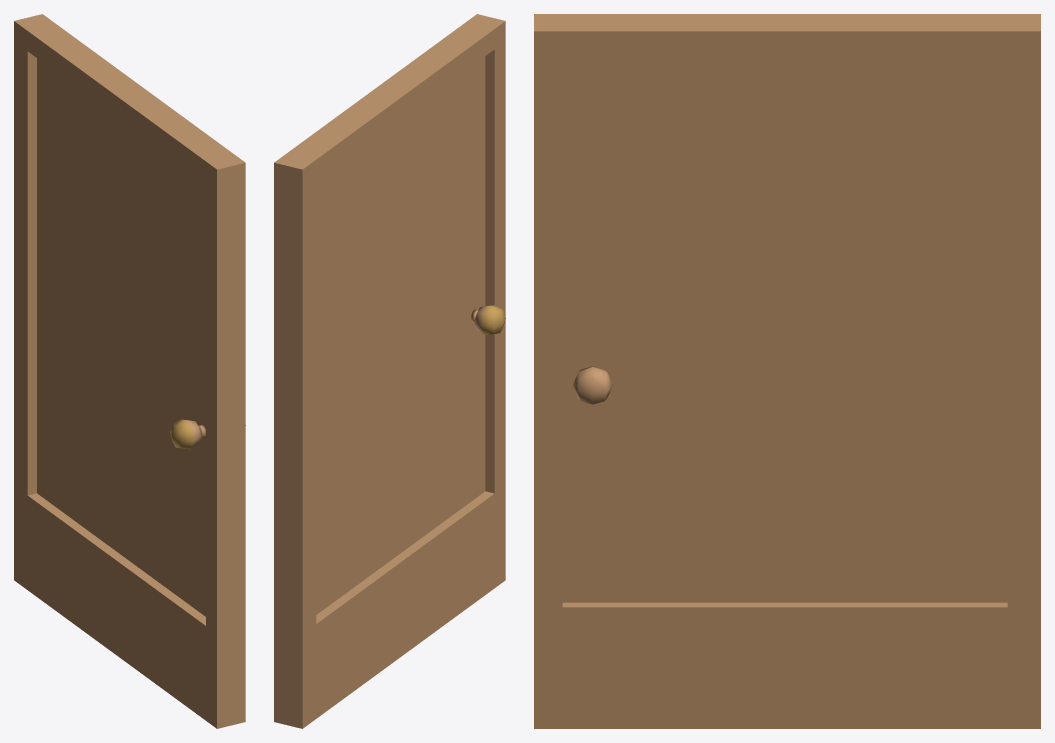
File: Doorway_1.fbx
3 renders of one model, left to right at view 1: azimuth 30°, elevation 25°; view 2: azimuth 150°, elevation 25°; view 3: azimuth 270°, elevation 25°, orthographic. The views are drawn at different scales.
Visible parts, largest first — view 1: Cylinder.002; view 2: Cylinder.002; view 3: Cylinder.002.
Boxes of the visible parts, box(x1,y1,x2,y2) form: Cylinder.002: box(14, 14, 245, 728); Cylinder.002: box(274, 14, 505, 728); Cylinder.002: box(534, 14, 1040, 728).
Bounding box in the file's own units: 84.97 × 631 × 415.
